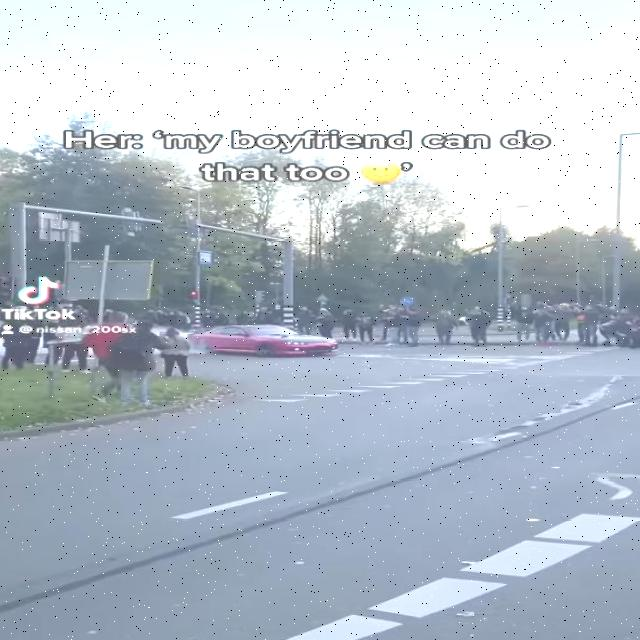car: (194, 318, 342, 363)
